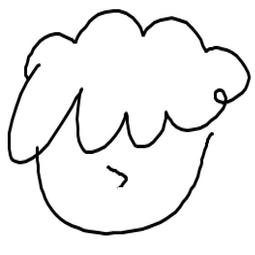pointy_nose: (100, 164, 133, 192)
